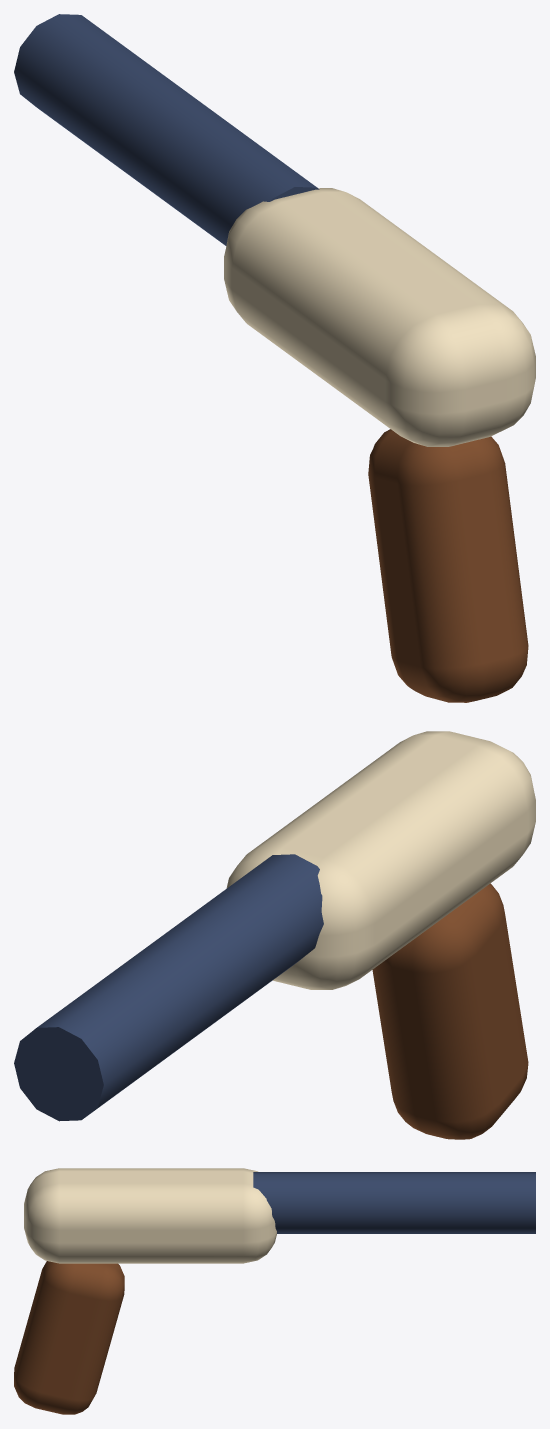
Rendered from placeholder_zapper.glb.
3 renders of one model, top to bottom at view 1: azimuth 30°, elevation 25°; view 2: azimuth 150°, elevation 25°; view 3: azimuth 270°, elevation 25°, orthographic. The views are drawn at different scales.
Visible parts, largest first — view 1: placeholder_zapper, body; view 2: placeholder_zapper, body; view 3: placeholder_zapper, body.
Boxes of the visible parts, x1,y1,x2,y2 form: placeholder_zapper: (14,14,528,702); body: (224,188,535,446); placeholder_zapper: (14,854,528,1139); body: (226,731,535,989); placeholder_zapper: (14,1172,535,1414); body: (24,1168,276,1263).
Bounding box in the file's own units: 0.07 × 0.1828 × 0.3691.
